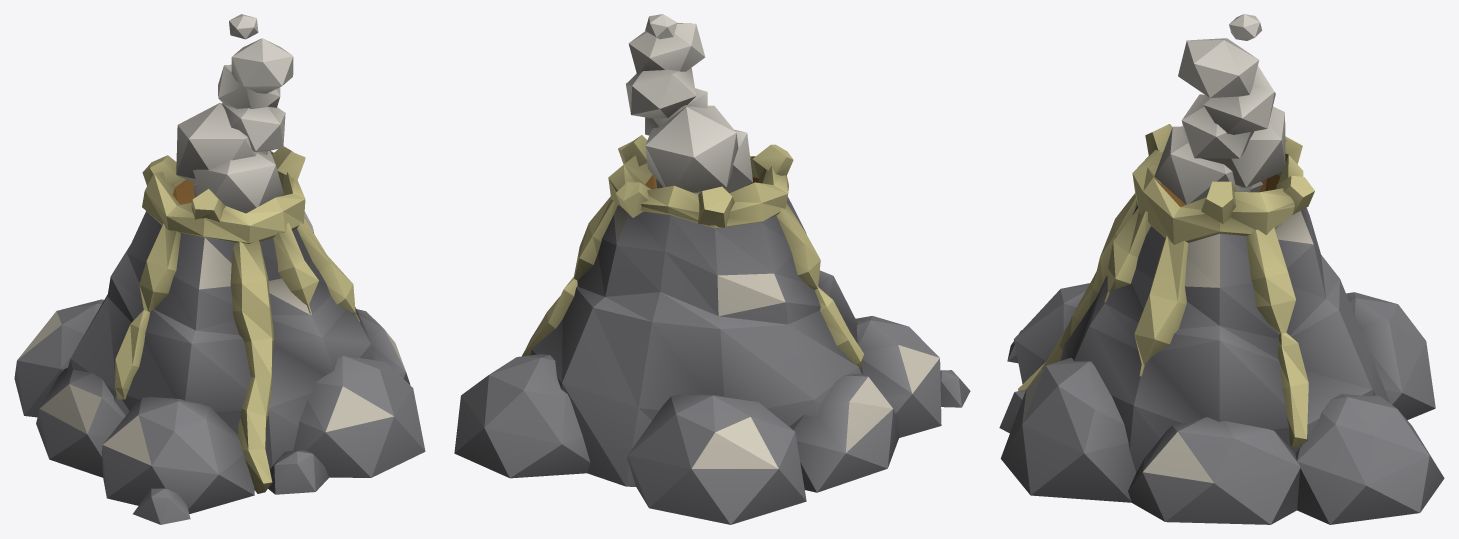
File: steamvent.glb
The picture shows the model from 3 angles, left to right: view 1: azimuth 30°, elevation 25°; view 2: azimuth 150°, elevation 25°; view 3: azimuth 270°, elevation 25°; orthographic projection. The views are drawn at different scales.
Visible parts, largest first — view 1: steamvent; view 2: steamvent; view 3: steamvent.
Part boxes in pixels (x1,y1,x2,y2): steamvent: [14, 14, 425, 524]; steamvent: [454, 14, 970, 524]; steamvent: [999, 14, 1444, 524].
Size of the model in its own units: 3.6 by 3.87 by 3.6.
